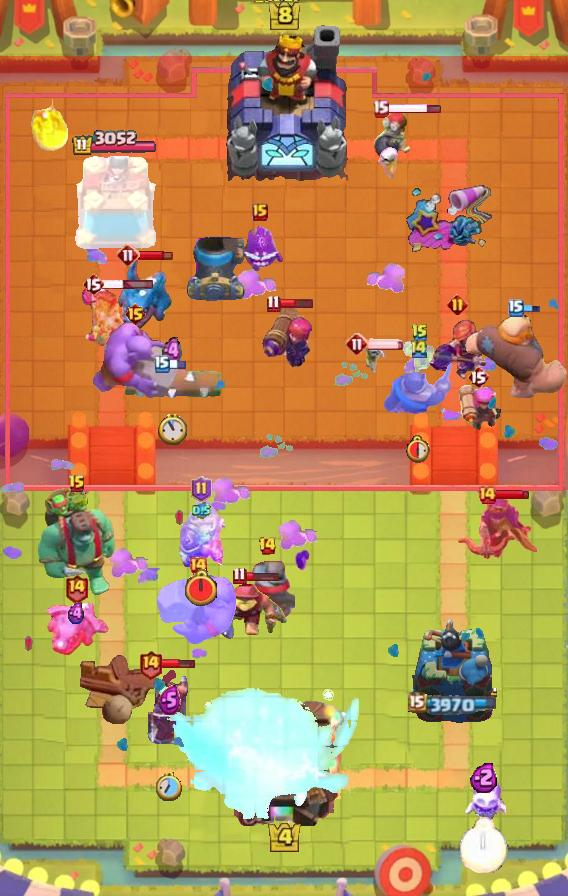archer-queen: (87, 321, 183, 401), (154, 571, 242, 647)
balloon: (464, 310, 568, 402)
barbarian-hut: (456, 493, 542, 571)
electro-spirit: (470, 761, 499, 793), (159, 685, 182, 715), (162, 336, 182, 367), (66, 602, 87, 626), (193, 501, 212, 518)
elixir: (460, 817, 508, 873), (183, 568, 219, 608), (158, 413, 186, 445), (156, 771, 182, 800), (406, 434, 432, 462)
elixir-golem-big: (145, 662, 193, 752)
emote: (386, 102, 441, 115), (102, 278, 154, 289), (367, 338, 405, 350), (138, 249, 174, 261), (494, 489, 530, 501), (279, 297, 314, 309), (245, 570, 280, 582), (160, 658, 195, 670), (523, 302, 542, 314), (168, 358, 187, 370)
fireball: (215, 580, 291, 642)
firecracker: (383, 363, 455, 418), (239, 558, 295, 622)
firecracker-evolution: (179, 499, 225, 567)
graveyard: (116, 258, 174, 332), (42, 600, 110, 656)
heal-spirit: (373, 146, 401, 178), (364, 340, 386, 374)
ice-golem: (373, 110, 413, 158)
king-tower: (219, 21, 349, 181), (221, 690, 347, 826)
lava-hound: (35, 485, 119, 597)
mega-knight: (159, 671, 381, 845)
mega-minion: (258, 300, 314, 372)
minion: (121, 366, 223, 400)
mirror: (462, 771, 506, 825)
musketeer: (185, 237, 245, 301)
queen-tower: (409, 616, 497, 731), (68, 156, 160, 256)
selected: (70, 130, 157, 157), (409, 692, 500, 715)
spear-goblin: (236, 224, 284, 276)
tesla-evolution: (426, 318, 488, 382), (79, 282, 131, 350)
text: (138, 648, 163, 679), (64, 573, 89, 603), (116, 243, 140, 267), (345, 332, 369, 356), (125, 302, 148, 326), (192, 476, 213, 502), (82, 272, 104, 296), (467, 365, 489, 389), (447, 294, 469, 315), (409, 337, 429, 359), (477, 485, 497, 505), (258, 536, 278, 556), (188, 556, 208, 576), (411, 323, 429, 343), (68, 474, 86, 494), (371, 99, 389, 118), (252, 203, 268, 221), (508, 299, 524, 317), (154, 355, 170, 373), (266, 295, 281, 314), (233, 567, 247, 585)
tombstone: (455, 380, 500, 430)
valkyrie: (29, 89, 71, 155)
zap: (402, 336, 438, 376)
